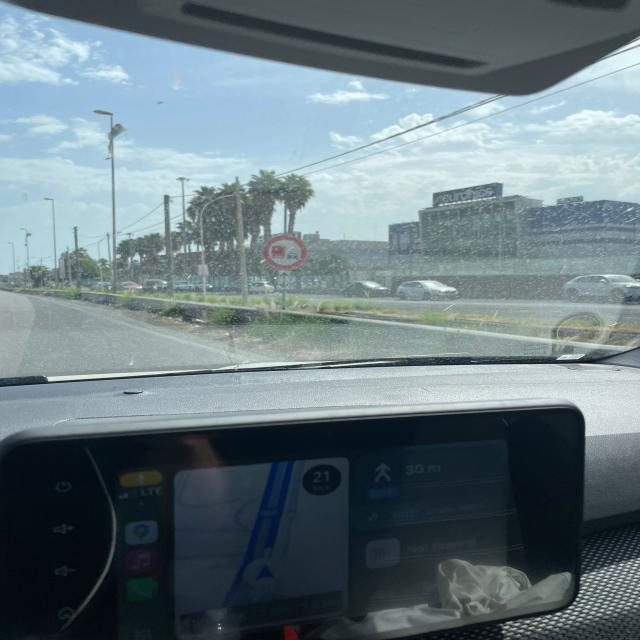forb_overtake_trucks: (263, 235, 308, 269)
